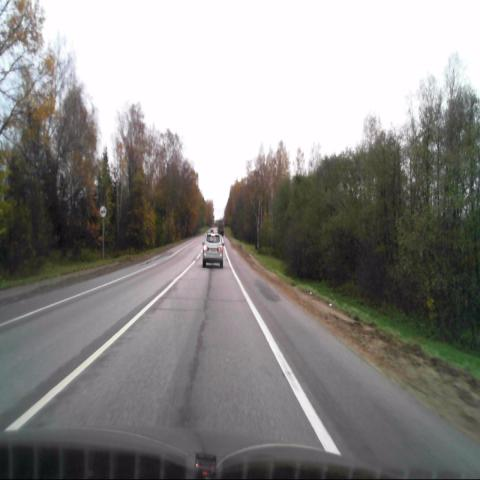3_21: (100, 205, 106, 218)
